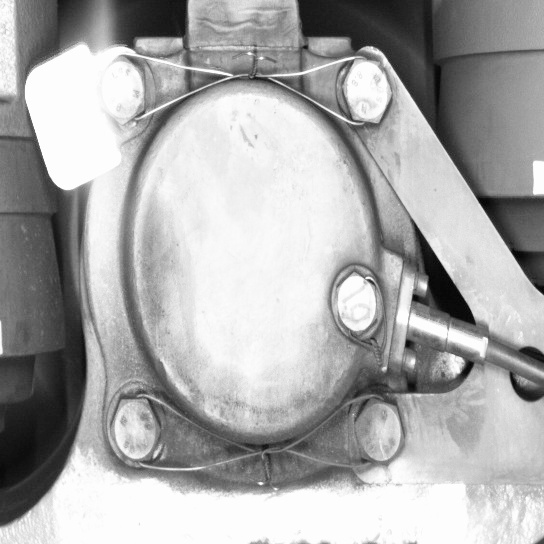IronWire: (99, 381, 412, 474), (94, 47, 398, 135)
Screw: (98, 384, 172, 472), (322, 257, 386, 343), (344, 388, 411, 469), (91, 48, 154, 133), (332, 53, 398, 132)
